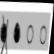correct: (10, 18, 22, 46)
no answer: (24, 20, 35, 47)
not correct: (0, 13, 10, 54)
